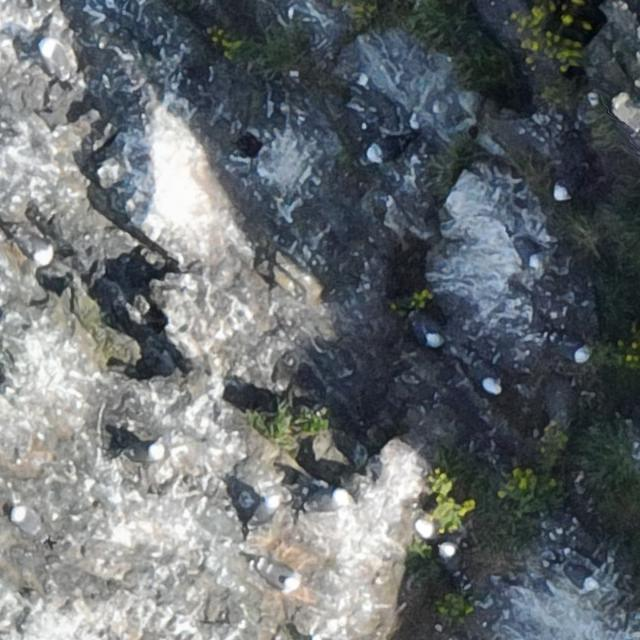umineko: (11, 220, 57, 265), (414, 517, 471, 548), (40, 35, 72, 87), (553, 161, 590, 202), (440, 542, 469, 590), (514, 228, 544, 272), (467, 358, 503, 394), (412, 310, 443, 350), (260, 564, 296, 591), (562, 559, 594, 588), (13, 507, 42, 538), (365, 138, 406, 159), (556, 338, 588, 361), (307, 492, 345, 511), (122, 444, 162, 462), (253, 498, 277, 526)
